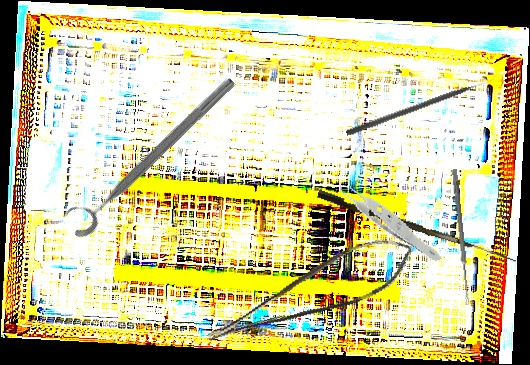Fixation Ring: (57, 63, 241, 243)
Hook Surgical: (315, 189, 520, 263)
Micro Scissor: (194, 227, 423, 350)
Pusher: (345, 76, 496, 138)
Surgical Spoon: (450, 169, 472, 305)
Tissue Forceps: (334, 149, 443, 284)
